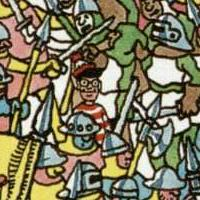waldo: (74, 62, 101, 103)
